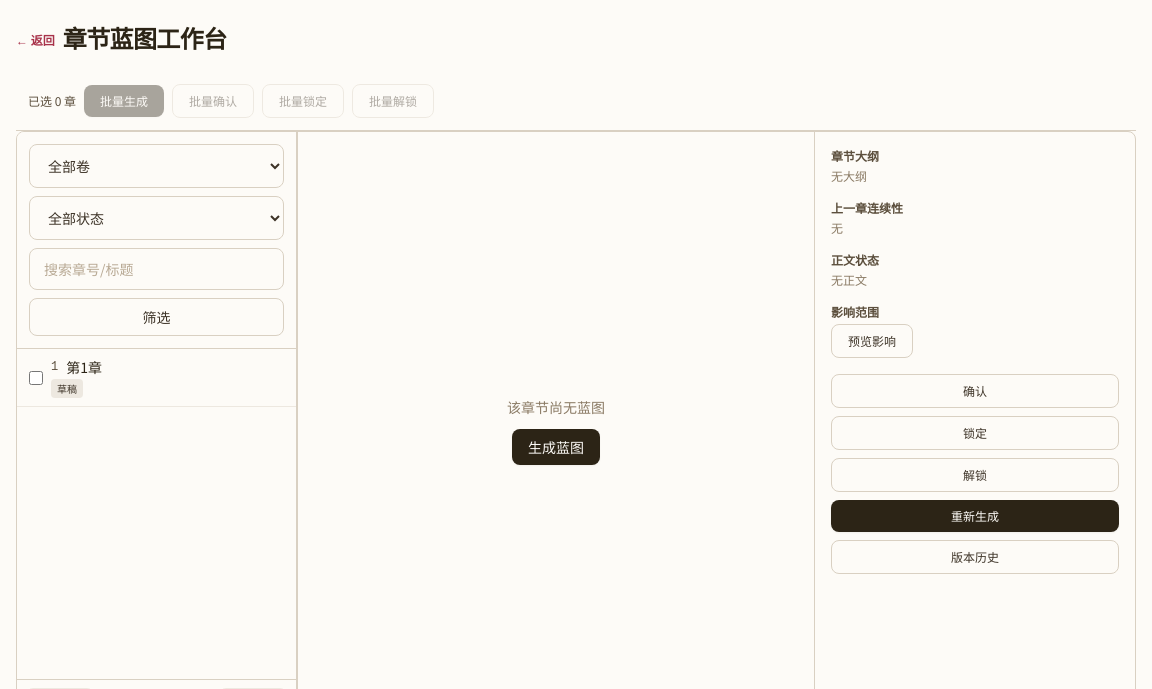
ChapterBlueprintWorkbench › 选择章节后加载结构化表单
Click the list item "1 第1章 草稿". click: [156, 378]
box: [17, 349, 296, 407]
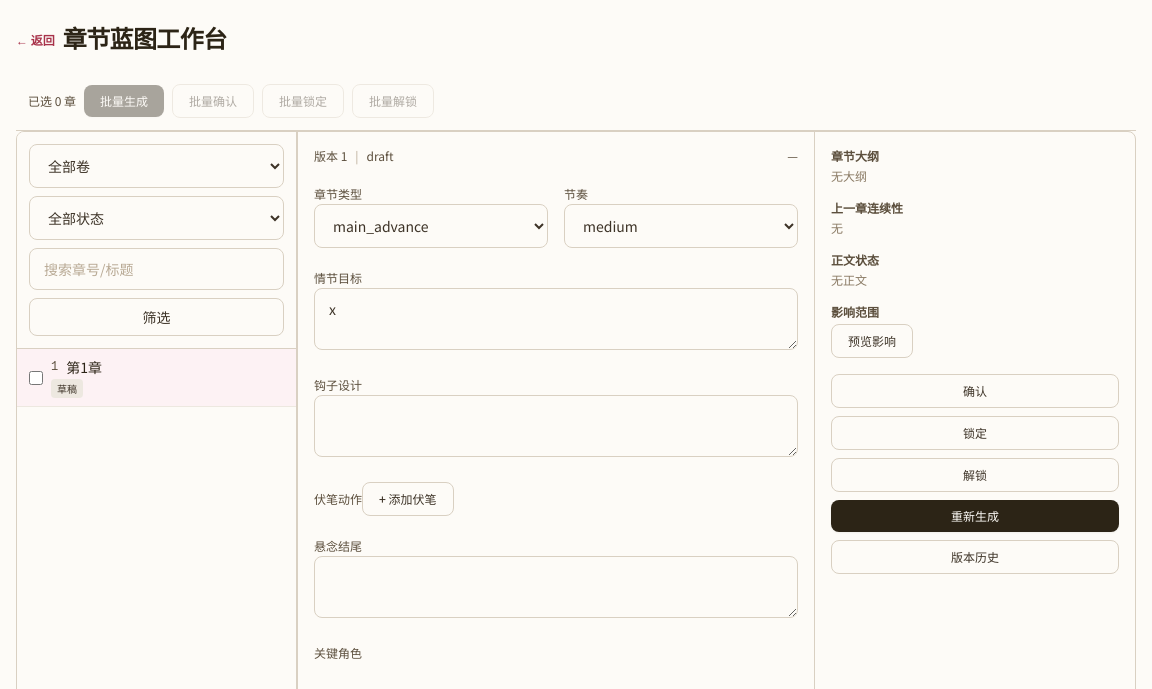
Check: the dropdown labelled "章节类型" is shown, box [314, 204, 548, 248]
